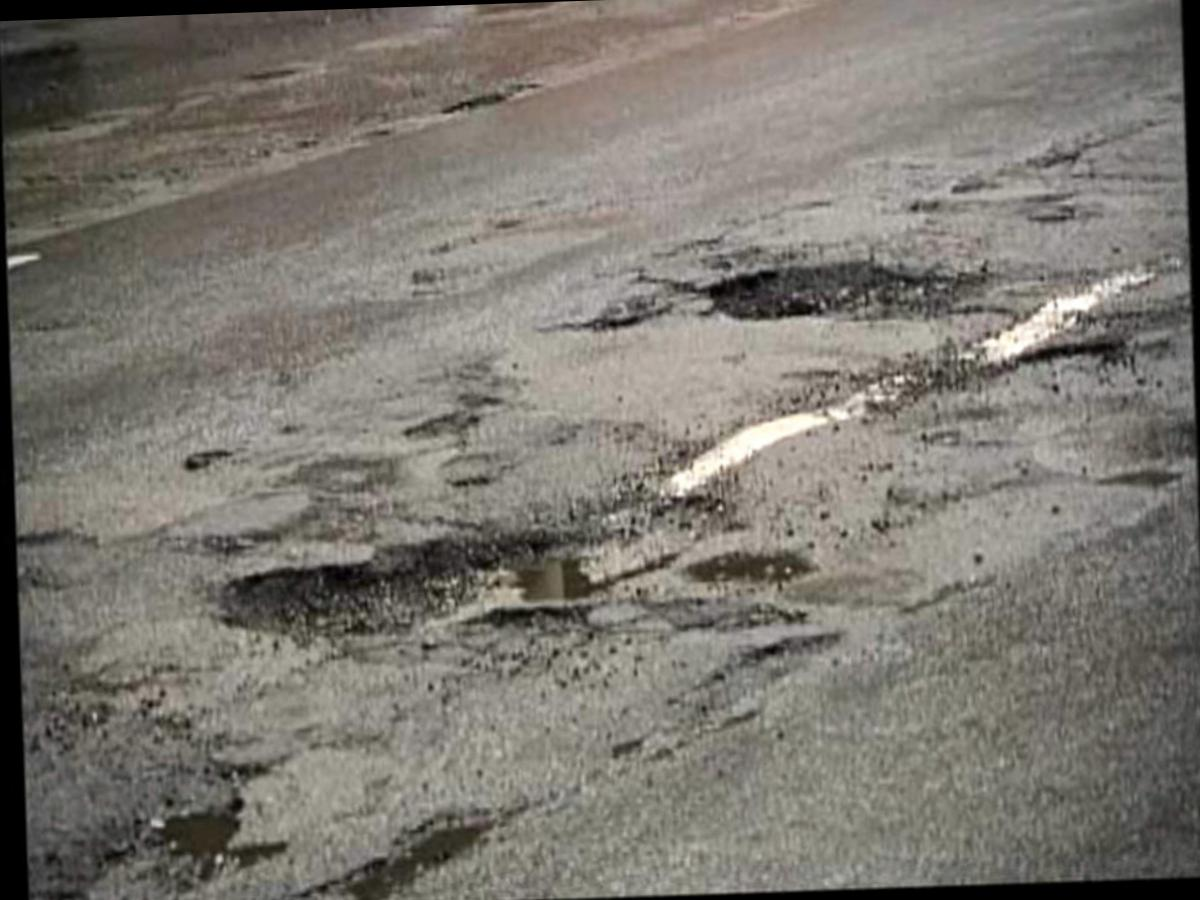pothole: (205, 438, 843, 708), (976, 321, 1200, 568), (612, 241, 966, 360), (286, 758, 528, 900), (366, 362, 539, 471), (150, 778, 298, 892), (150, 429, 246, 486)
